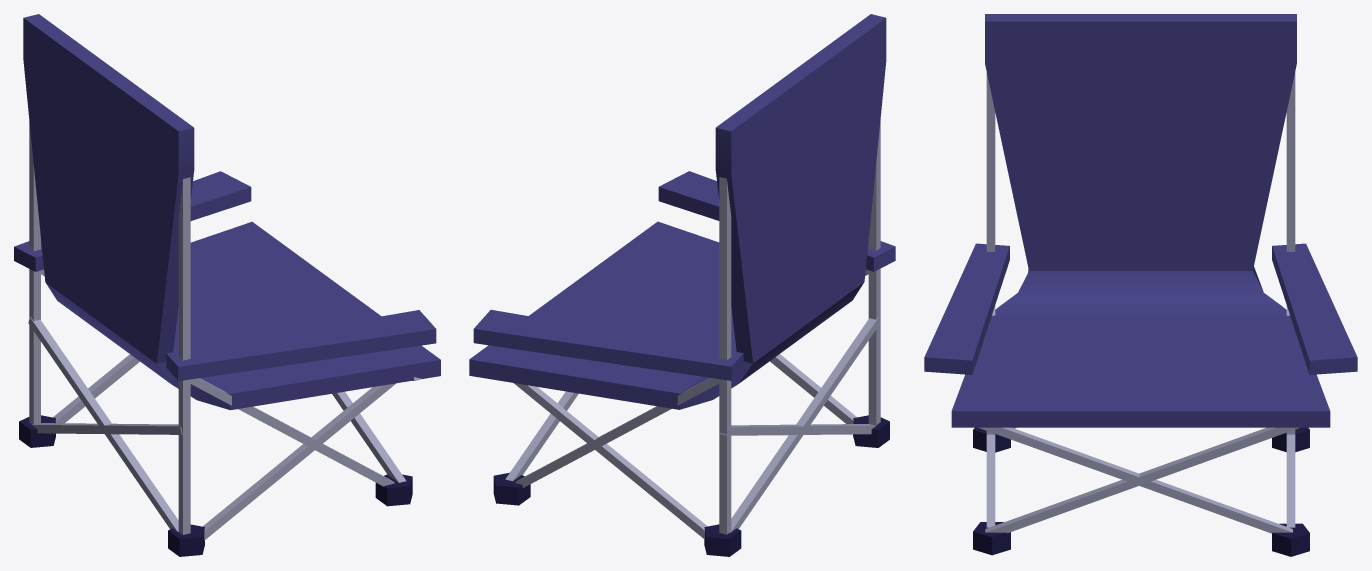
Rendered from chair01_export.fbx.
3 views of the same model, side by side, from view 1: azimuth 30°, elevation 25°; view 2: azimuth 150°, elevation 25°; view 3: azimuth 270°, elevation 25° (orthographic).
Visible parts, largest first — view 1: pCube3, pCube4, pCube5, pCube15, pCube10, pCube7, pCube6, pCube8, pCube14, pCube12, pCube11, pCylinder2 (+2 smaller); view 2: pCube3, pCube7, pCube6, pCube14, pCube11, pCube5, pCube4, pCube9, pCube15, pCube13, pCube10, pCylinder3 (+2 smaller); view 3: pCube3, pCube7, pCube4, pCube12, pCube13, pCube6, pCube5, pCylinder4, pCube9, pCube8, pCylinder1, pCylinder3 (+1 smaller).
Boxes of the visible parts, <box> form: pCube3: <box>23,14,440,410</box>; pCube4: <box>166,310,436,381</box>; pCube5: <box>178,177,190,534</box>; pCube15: <box>28,317,178,531</box>; pCube10: <box>203,383,395,540</box>; pCube7: <box>14,171,251,271</box>; pCube6: <box>29,122,40,424</box>; pCube8: <box>190,378,394,486</box>; pCube14: <box>31,423,182,434</box>; pCube12: <box>332,391,406,482</box>; pCube11: <box>53,354,139,423</box>; pCylinder2: <box>168,524,204,556</box>; pCube3: <box>469,14,886,409</box>; pCube7: <box>473,309,743,380</box>; pCube6: <box>719,177,731,534</box>; pCube14: <box>730,316,880,532</box>; pCube11: <box>514,383,707,539</box>; pCube5: <box>868,120,880,425</box>; pCube4: <box>658,171,895,271</box>; pCube9: <box>515,378,724,487</box>; pCube15: <box>720,424,876,435</box>; pCube13: <box>505,391,578,481</box>; pCube10: <box>770,354,856,423</box>; pCylinder3: <box>704,524,741,556</box>; pCube3: <box>951,14,1330,427</box>; pCube7: <box>1272,243,1357,374</box>; pCube4: <box>924,243,1009,374</box>; pCube12: <box>985,427,1299,533</box>; pCube13: <box>978,427,1292,533</box>; pCube6: <box>1286,72,1295,251</box>; pCube5: <box>986,72,995,251</box>; pCylinder4: <box>1272,523,1309,556</box>; pCube9: <box>1286,305,1295,527</box>; pCube8: <box>986,305,995,527</box>; pCylinder1: <box>973,522,1010,555</box>; pCylinder3: <box>1272,427,1309,452</box>.
Bounding box in the file's own units: 1.22 × 1.98 × 1.82.
